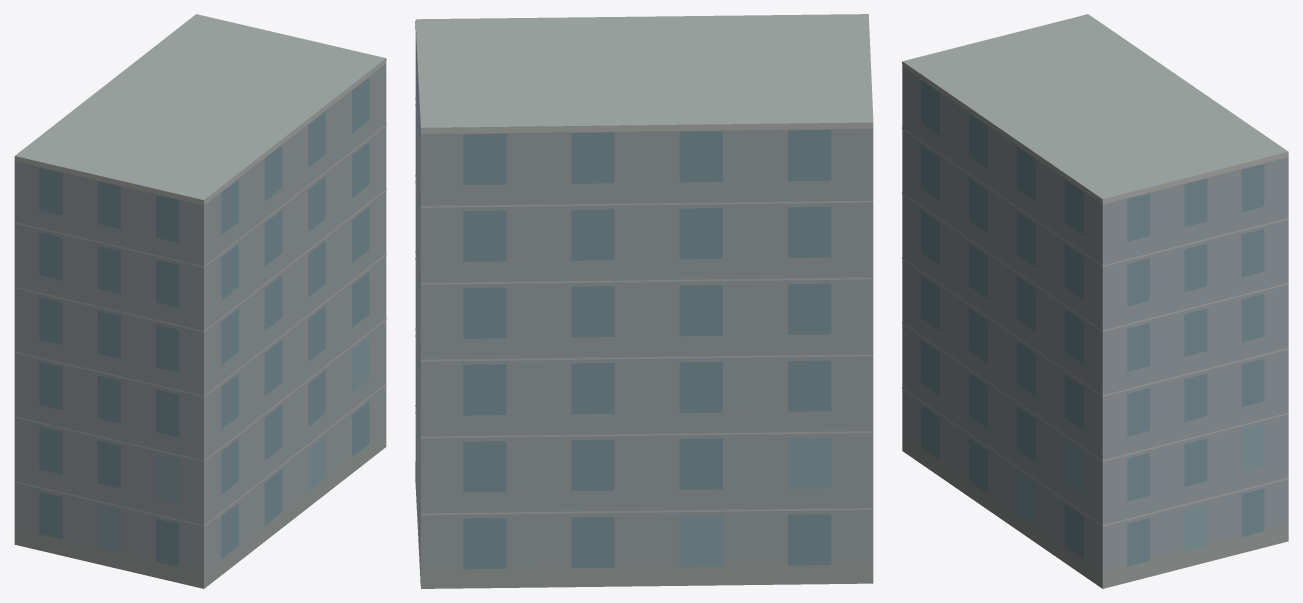
Rendered from survey-upis-32741475.glb.
3 renders of one model, left to right at view 1: azimuth 30°, elevation 25°; view 2: azimuth 150°, elevation 25°; view 3: azimuth 270°, elevation 25°, orthographic. The views are drawn at different scales.
Parts seen in each view (by area): view 1: survey-upis-32741475.tmp; view 2: survey-upis-32741475.tmp; view 3: survey-upis-32741475.tmp.
Part boxes in pixels (bbox=[...]): survey-upis-32741475.tmp: bbox=[14, 14, 386, 588]; survey-upis-32741475.tmp: bbox=[415, 14, 873, 588]; survey-upis-32741475.tmp: bbox=[902, 14, 1288, 588].
Bounding box in the file's own units: 18.48 × 18.1 × 16.29.
